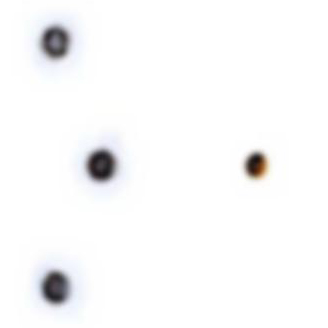cancer: (64, 118, 145, 207), (17, 252, 99, 319), (18, 7, 91, 81)
normal: (231, 137, 283, 188)
